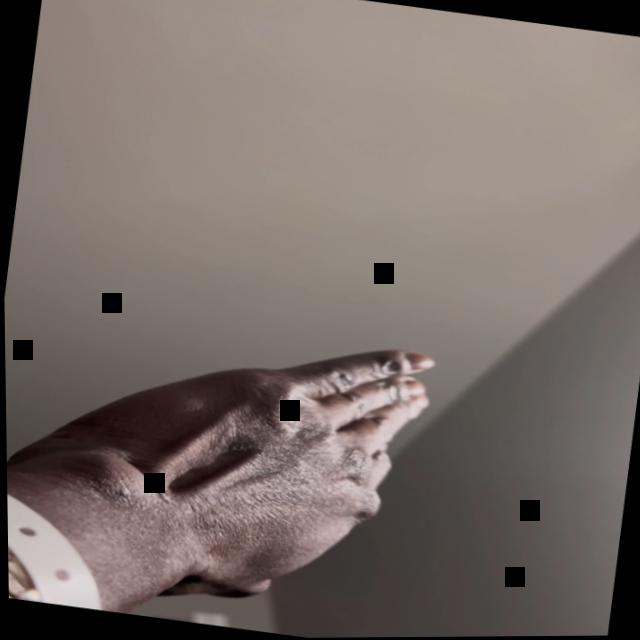Paper: (3, 297, 453, 627)
